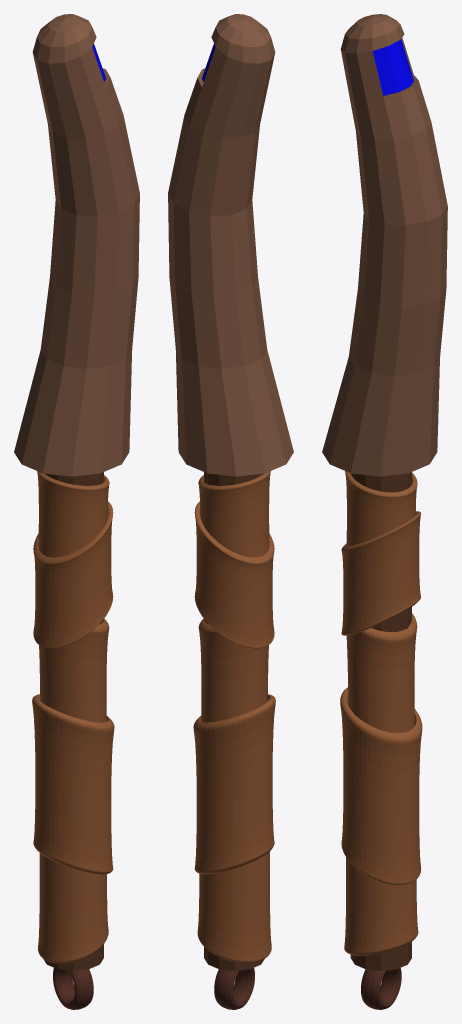
File: Wand 341.glb
The picture shows the model from 3 angles, left to right: view 1: azimuth 30°, elevation 25°; view 2: azimuth 150°, elevation 25°; view 3: azimuth 330°, elevation 25°; orthographic projection.
Parts seen in each view (by area): view 1: GeneratedWand; view 2: GeneratedWand; view 3: GeneratedWand.
Part boxes in pixels (x1,y1,x2,y2): GeneratedWand: (14,14,139,1009); GeneratedWand: (168,14,293,1009); GeneratedWand: (322,14,447,1009).
Bounding box in the file's own units: 0.0644 × 0.541 × 0.0572.
